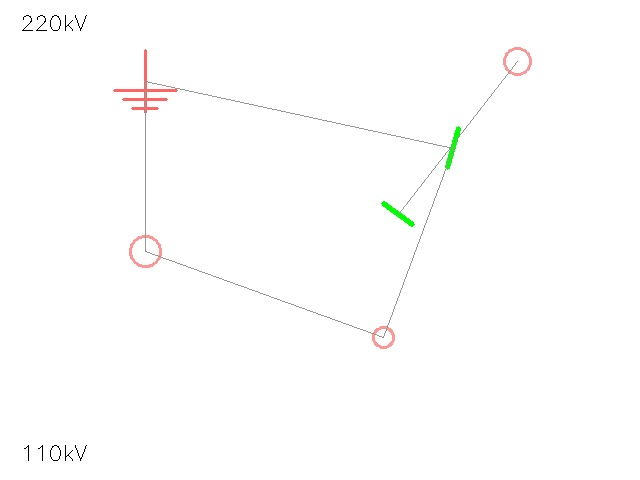busbar: (428, 123, 478, 173), (375, 191, 421, 237)
disconnect_switch: (115, 221, 175, 281)
ground: (114, 50, 176, 112)
load_break_switch: (363, 317, 403, 357)
reactor: (490, 34, 544, 88)
